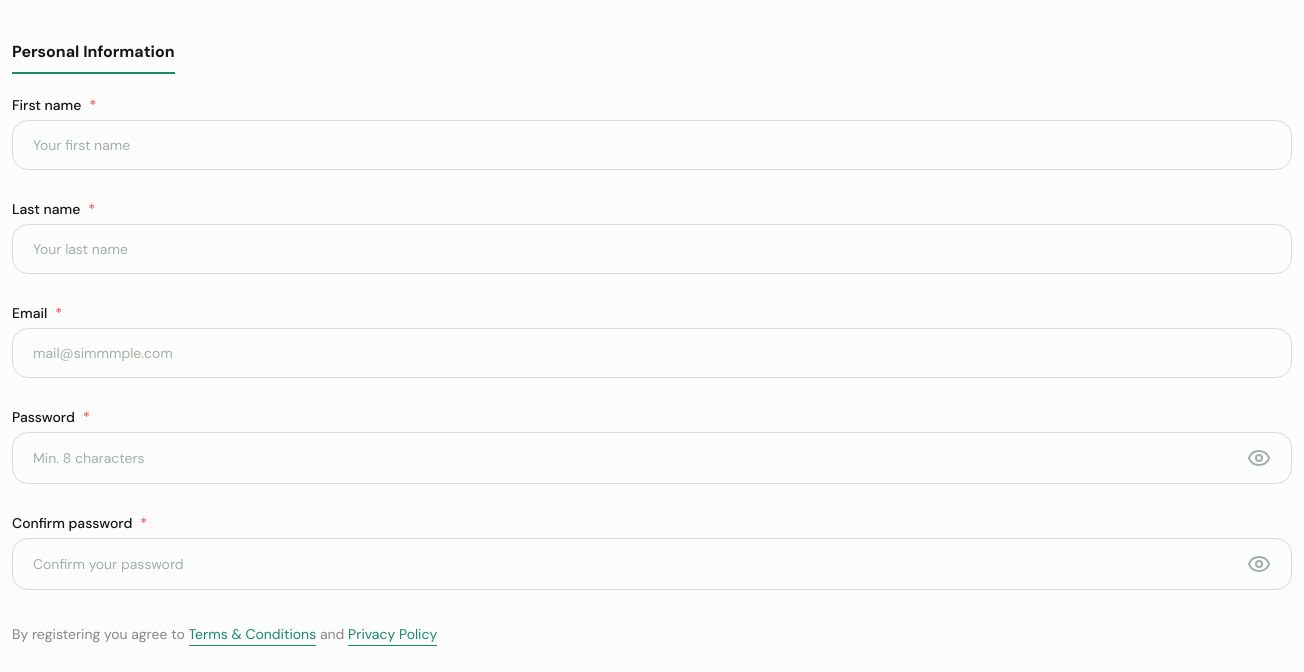
Scenario: SignUpForm › shows password checklist when password is typed
The image size is (1304, 672).
Type "Test" into the password field with placeholder "Min. 8 characters" at (630, 458), box [13,433,1247,483]
(page scrolled)
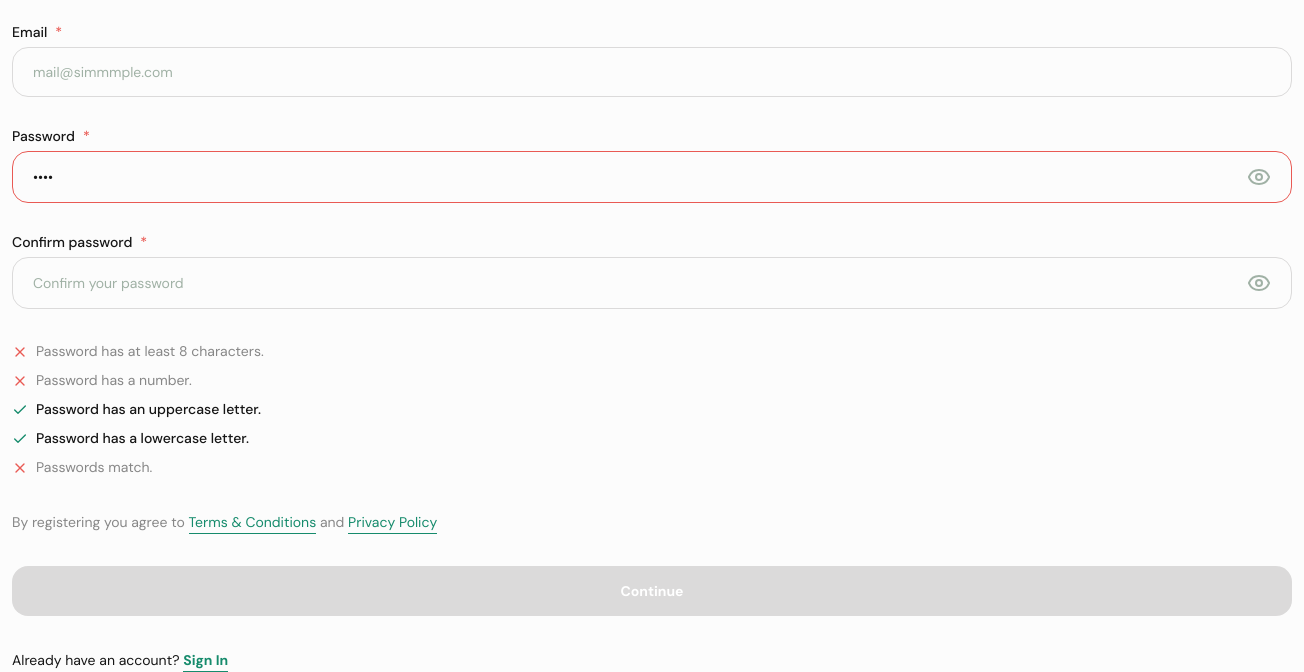
Check: the text "Password has at least 8 characters." is shown, box [36,341,264,362]
Check: the text "Passwords match." is shown, box [36,457,152,478]
